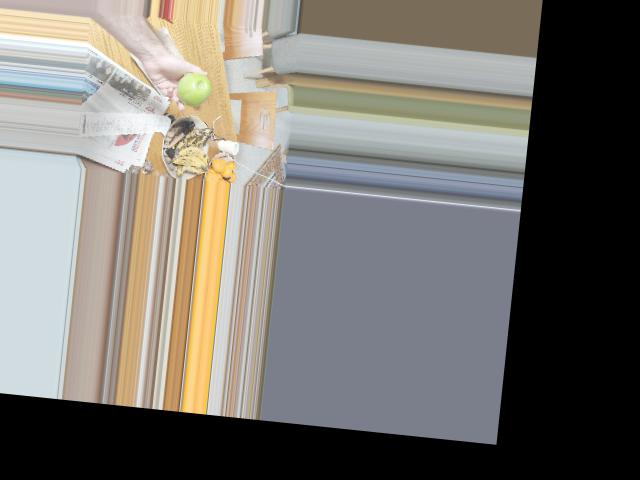apple: (173, 70, 213, 107)
